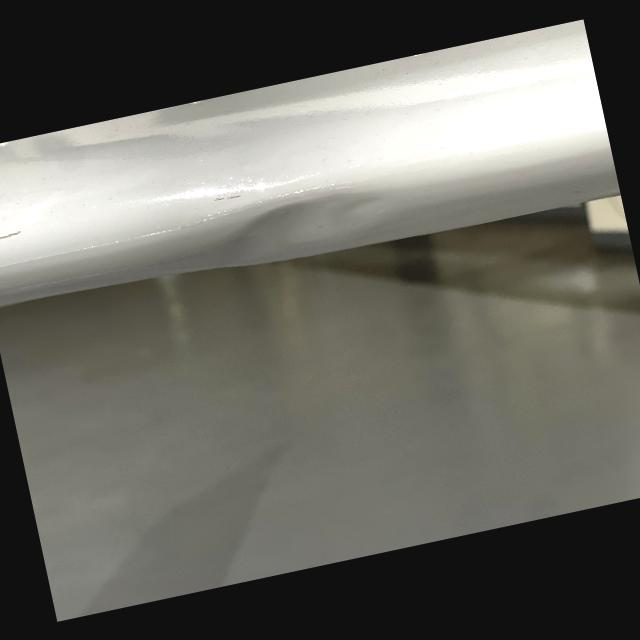dent: (215, 174, 406, 270)
